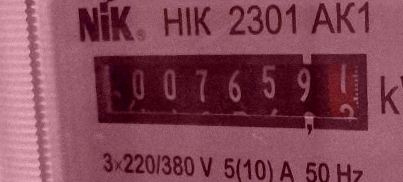0: (159, 63, 180, 104), (128, 64, 149, 103)
1: (332, 59, 352, 96)
5: (257, 61, 280, 101)
6: (223, 64, 246, 105)
7: (190, 64, 213, 103)
9: (293, 64, 315, 104)
screen: (82, 40, 377, 140)
